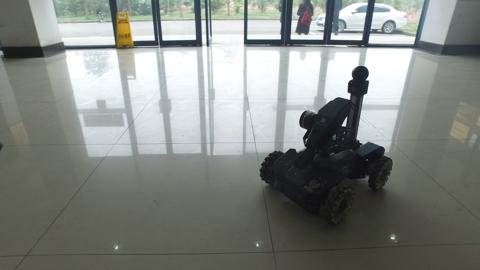car: (315, 1, 410, 34)
chariot: (257, 64, 394, 228)
